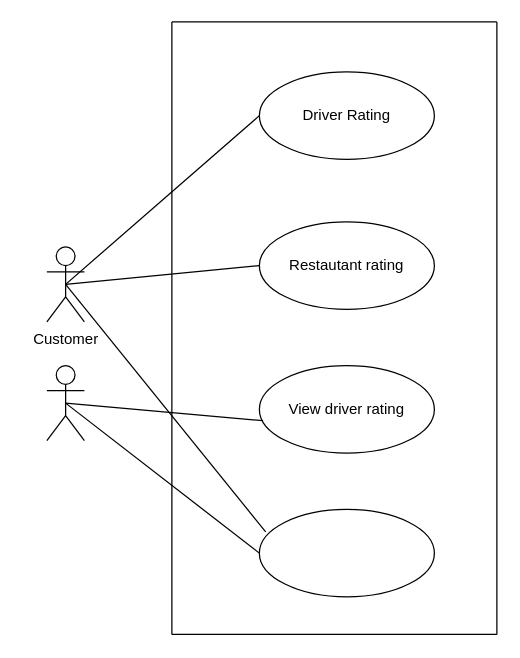
Some shapes in this 520 by 658 pixel diagram are drawn without their labels. The shapes that lost their labels are listed below. From the top down, each one's box as (x1, y1, x2, y2) in pixels, then its label:
(46, 364, 84, 441): Administrator
(258, 508, 434, 597): View restaurant rating
